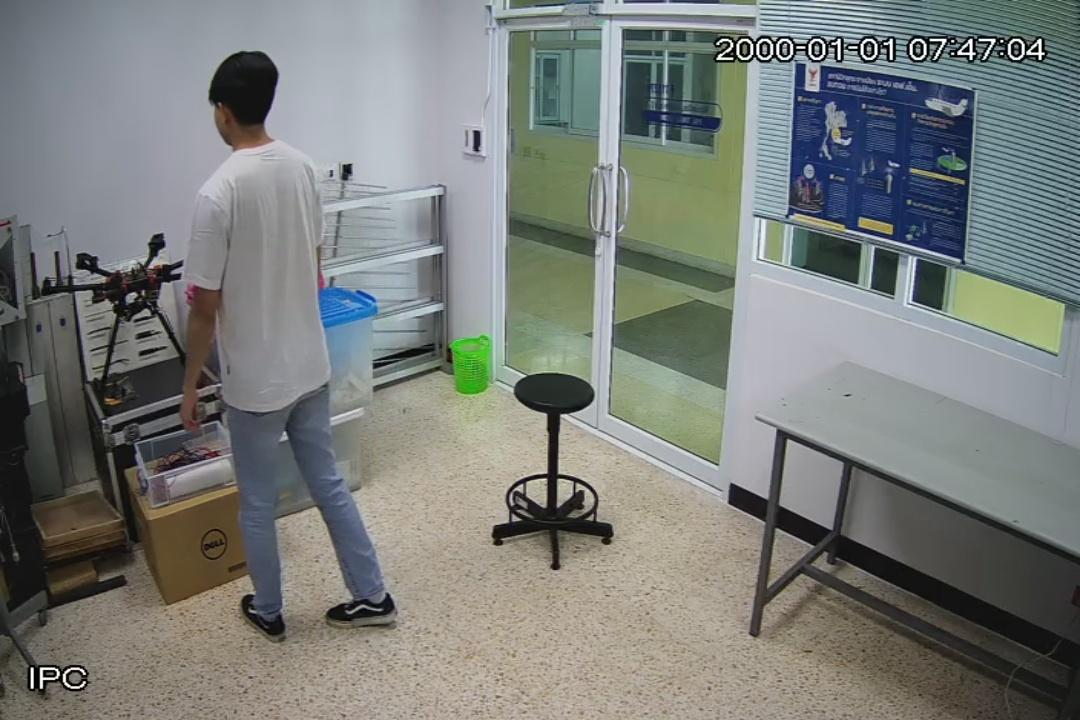normal: (181, 48, 402, 646)
